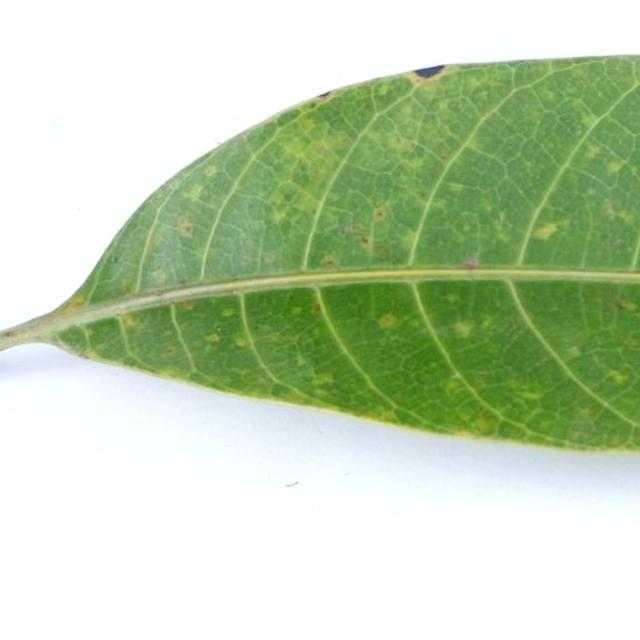Mango: (74, 58, 639, 450)
Powdery_Mildew: (584, 196, 640, 265), (286, 123, 352, 171), (257, 98, 317, 128), (531, 215, 563, 249), (371, 298, 400, 334), (269, 383, 299, 400), (399, 228, 420, 252), (454, 427, 489, 439), (473, 416, 495, 433), (310, 371, 334, 386), (184, 184, 204, 202), (453, 320, 474, 337), (177, 216, 194, 237), (491, 217, 509, 236), (606, 158, 627, 174), (615, 298, 639, 312), (375, 408, 399, 422), (66, 293, 86, 309), (608, 370, 629, 385), (160, 366, 184, 379), (151, 269, 169, 286), (270, 208, 287, 226), (444, 379, 463, 395), (618, 210, 637, 226), (521, 388, 542, 401), (584, 142, 602, 157), (564, 345, 582, 360), (621, 336, 640, 350), (232, 334, 250, 348), (320, 255, 338, 269), (461, 256, 479, 270), (375, 83, 393, 97), (428, 200, 447, 213), (84, 348, 103, 361), (315, 90, 335, 102), (399, 139, 417, 152), (123, 314, 139, 328), (580, 113, 597, 126), (341, 224, 363, 234), (203, 332, 221, 344), (203, 164, 218, 178), (447, 182, 466, 193), (374, 245, 390, 258), (295, 353, 308, 367), (262, 254, 279, 264), (220, 307, 235, 317), (122, 283, 134, 295), (473, 378, 486, 389), (282, 192, 295, 203), (153, 288, 168, 297), (374, 208, 386, 219), (446, 293, 459, 303), (240, 256, 253, 266), (239, 131, 250, 142), (290, 306, 303, 315), (3, 329, 16, 338), (359, 235, 370, 245), (84, 328, 94, 338), (313, 303, 322, 313), (111, 256, 120, 264), (180, 279, 187, 285)
